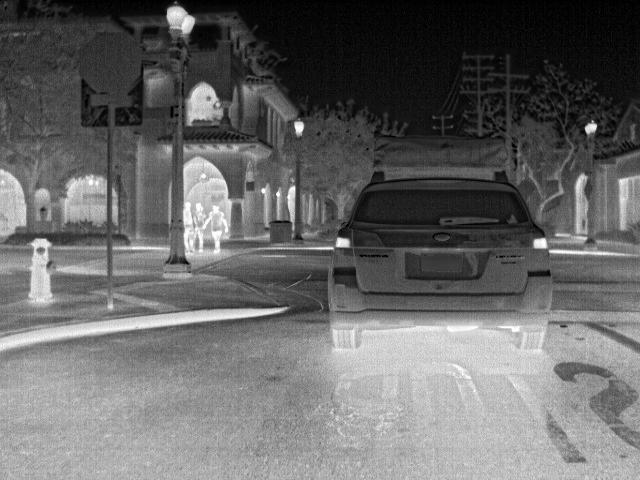car: (328, 170, 554, 350)
person: (206, 202, 230, 254), (182, 200, 197, 252), (194, 203, 207, 254)
